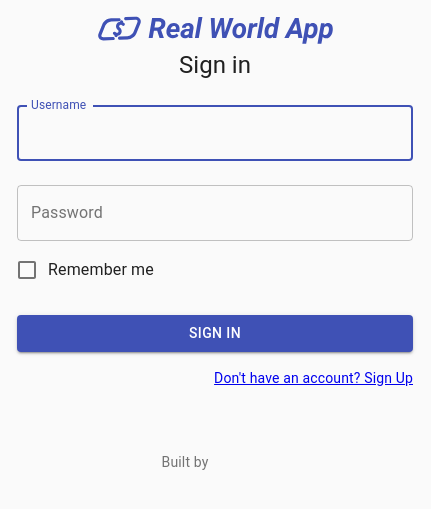
Scenario: Login tests › displays password helper text
This screenshot has width=431, height=509.
Step 1. Type "1" into the field with id "username" → (215, 133), box [17,105,413,161]
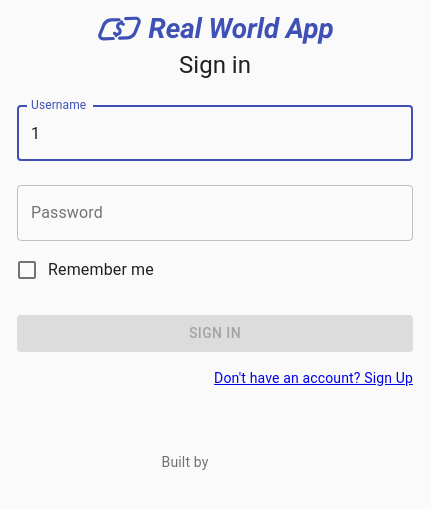
Step 2. Type "1" into the password field labelled "Password" → (215, 213), box [17,185,413,241]
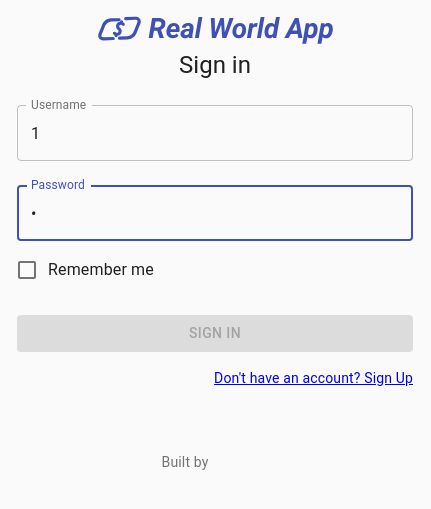
Step 3. Leave the password field labelled "Password", box [17,185,413,241]
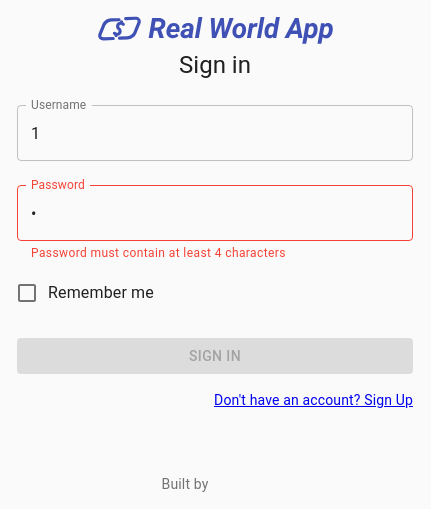
Check: the text "Password must contain at least 4 characters" is shown, box [31,246,286,260]
